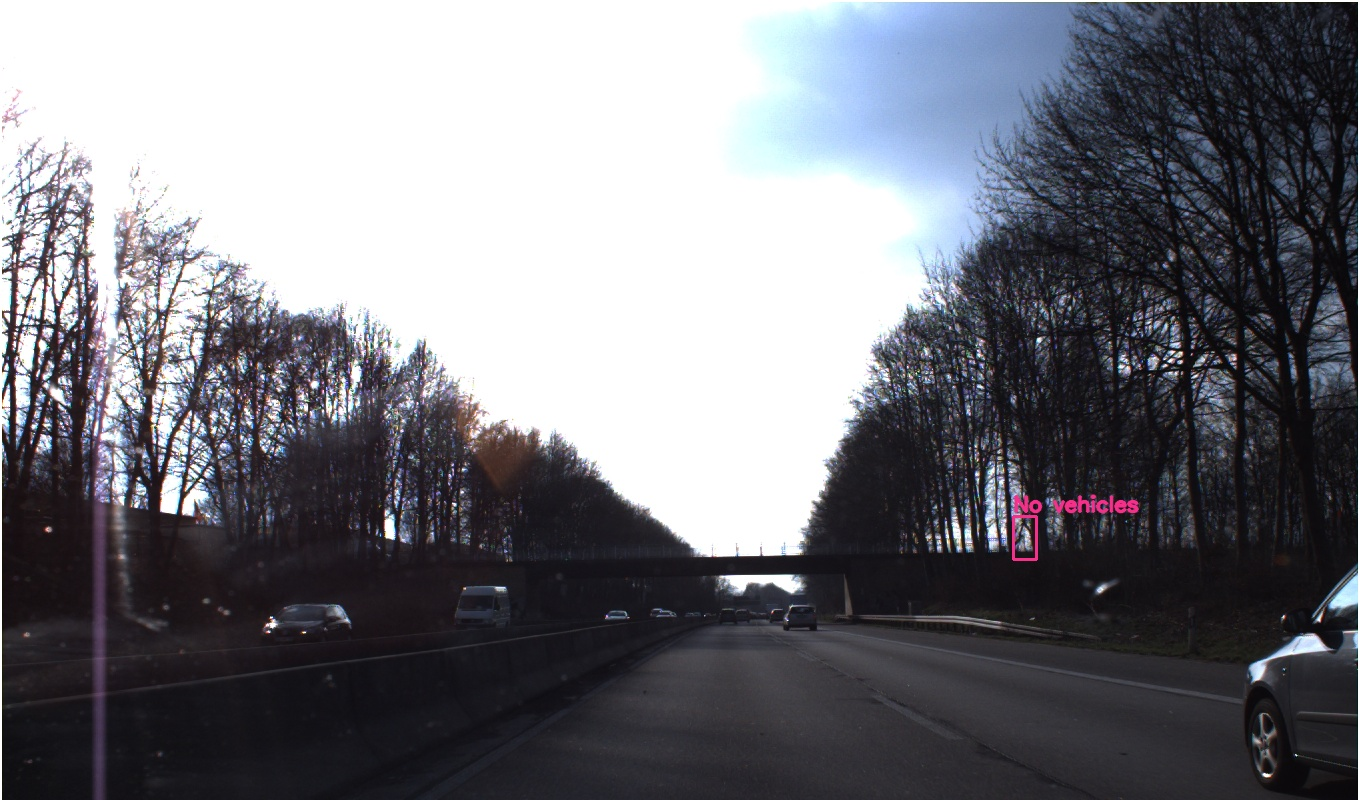Speed limit (30km/h): (718, 298, 777, 356)
